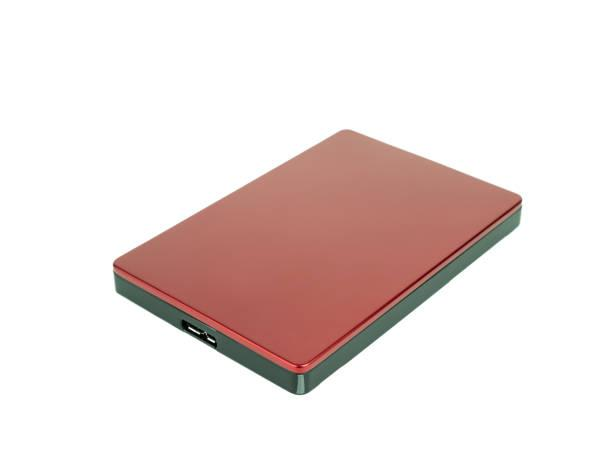HDD: (111, 130, 524, 397)
